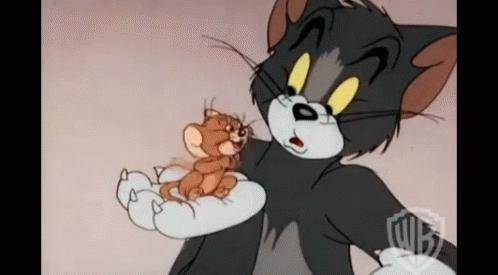jerry: (158, 96, 261, 219)
